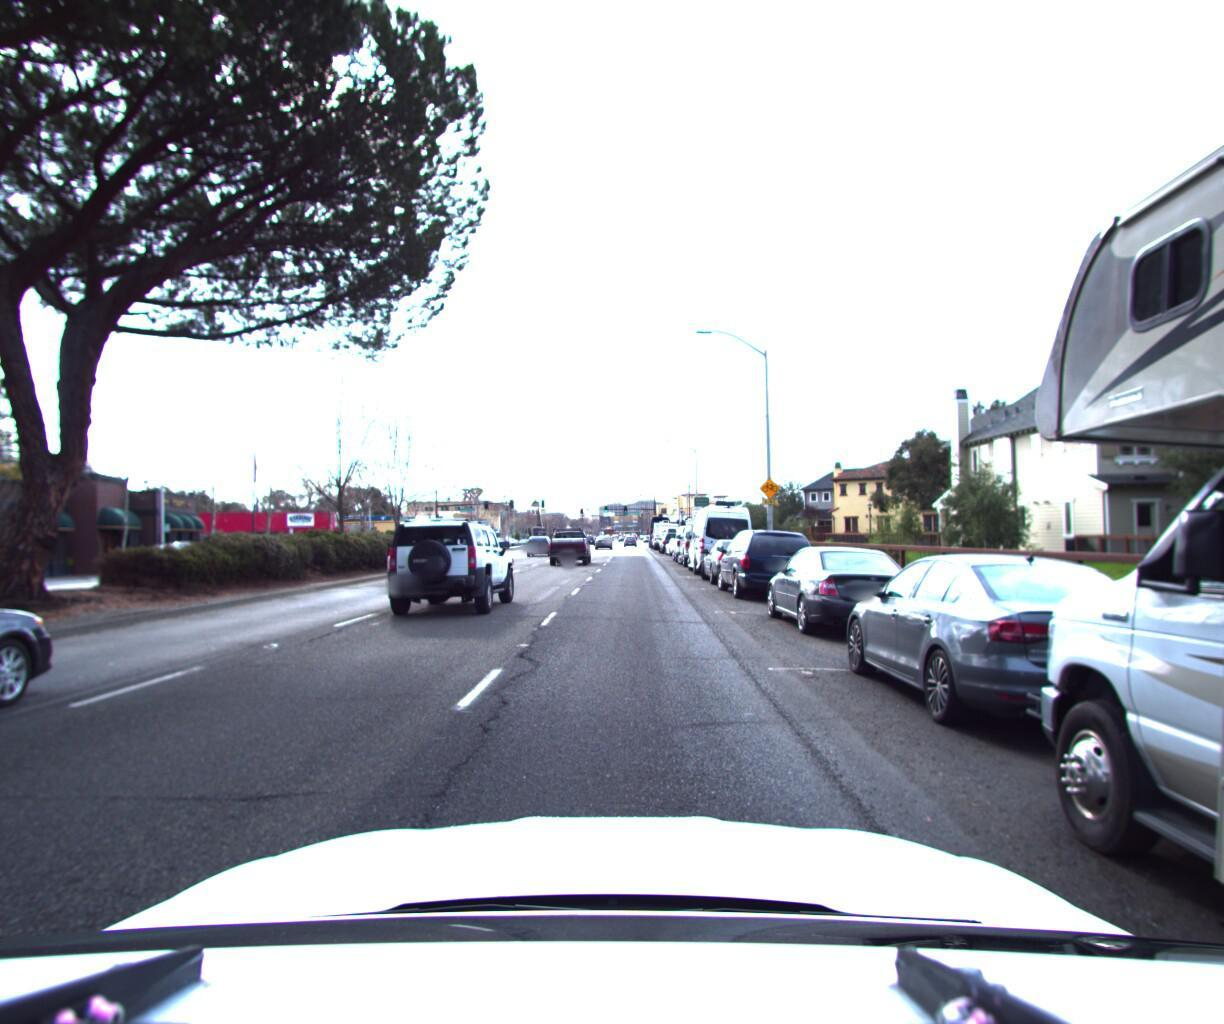car: (833, 538, 1224, 760), (0, 528, 76, 852), (758, 539, 931, 643), (379, 513, 522, 617), (717, 526, 823, 603), (689, 497, 760, 578), (701, 535, 777, 587), (681, 517, 733, 568), (549, 523, 595, 565), (0, 552, 40, 594), (593, 535, 612, 551)
other_vehicle: (656, 518, 683, 551)
